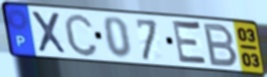0: (102, 15, 135, 61)
7: (135, 18, 159, 62)
B: (203, 22, 241, 69)
C: (62, 12, 100, 58)
E: (171, 18, 210, 69)
X: (29, 9, 69, 56)
